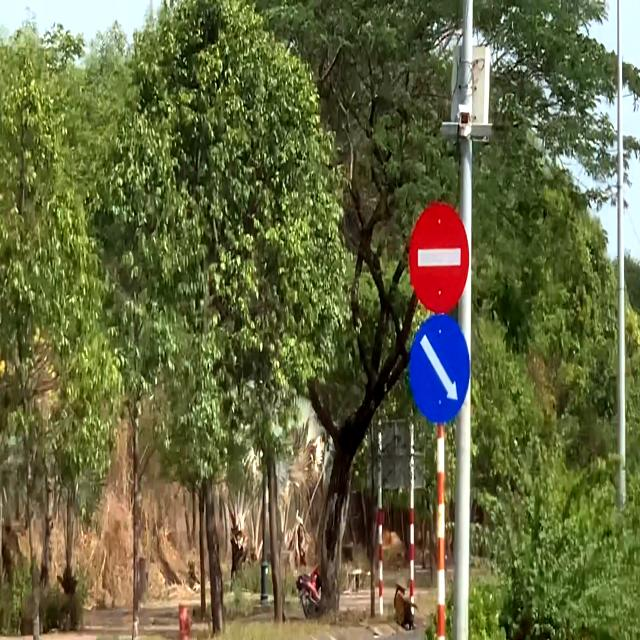P.102: (404, 194, 471, 314)
R.302a: (406, 311, 472, 427)
